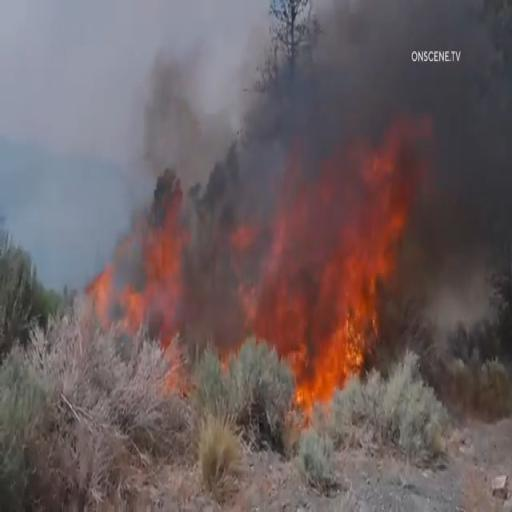fire: (283, 113, 411, 391), (95, 207, 190, 373)
smoke: (141, 43, 241, 215), (429, 90, 512, 274), (292, 0, 406, 106)
